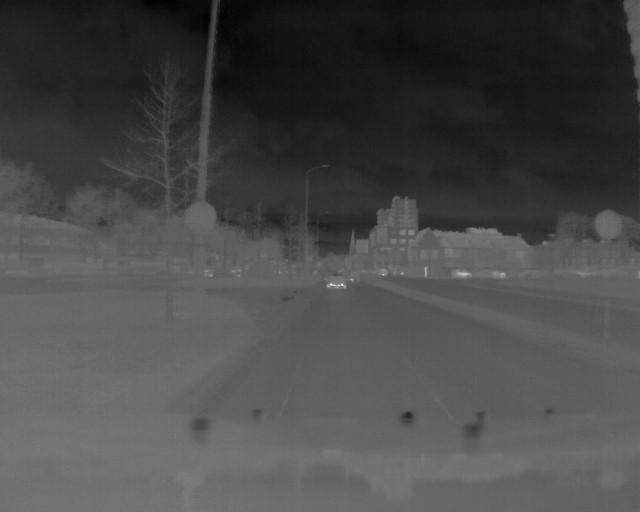car: (326, 272, 347, 290)
